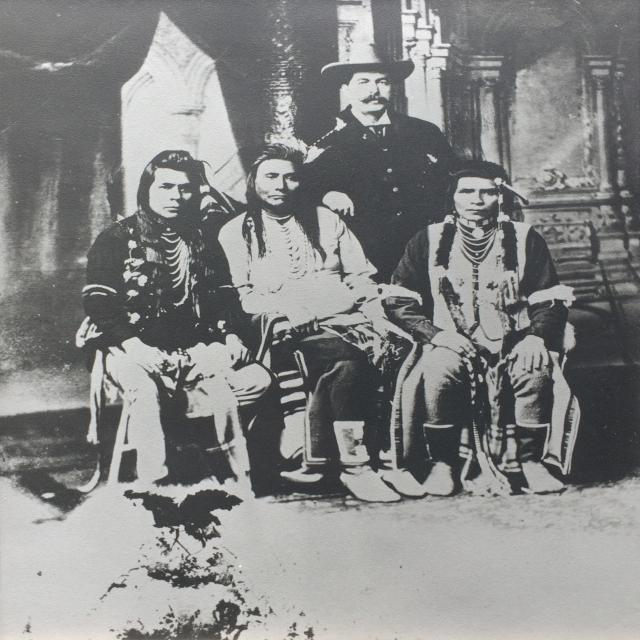body: (215, 142, 433, 505), (77, 146, 281, 497), (382, 160, 577, 498), (295, 40, 466, 285)
